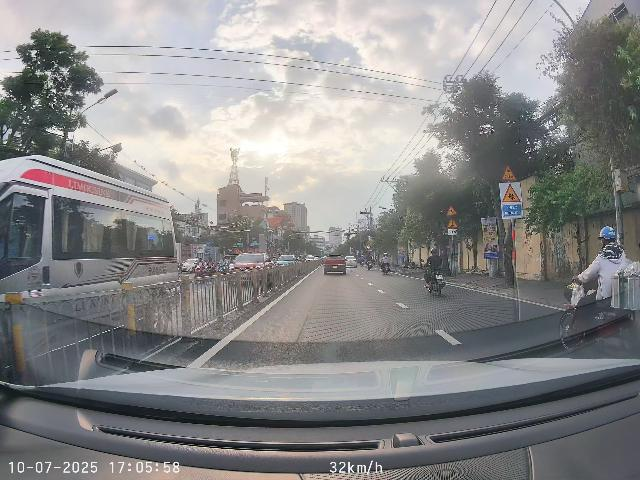225-chu-y-tre-em: (502, 184, 521, 202)
245-di-cham: (502, 164, 517, 181)
